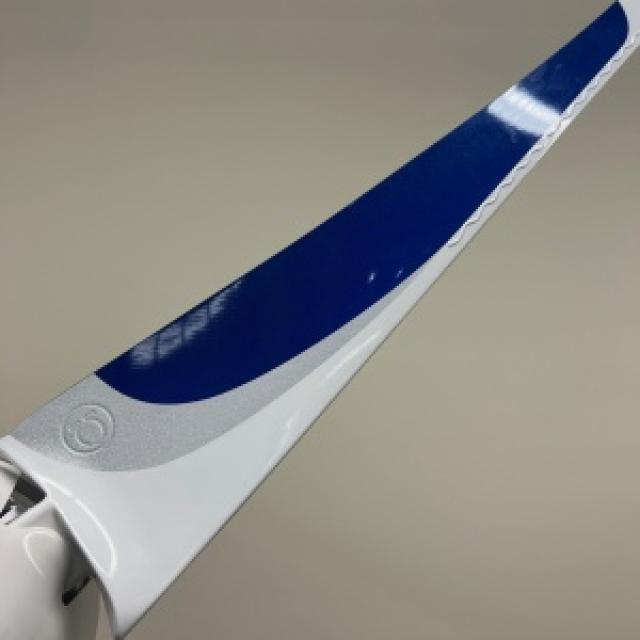healthy: (126, 49, 638, 638)
